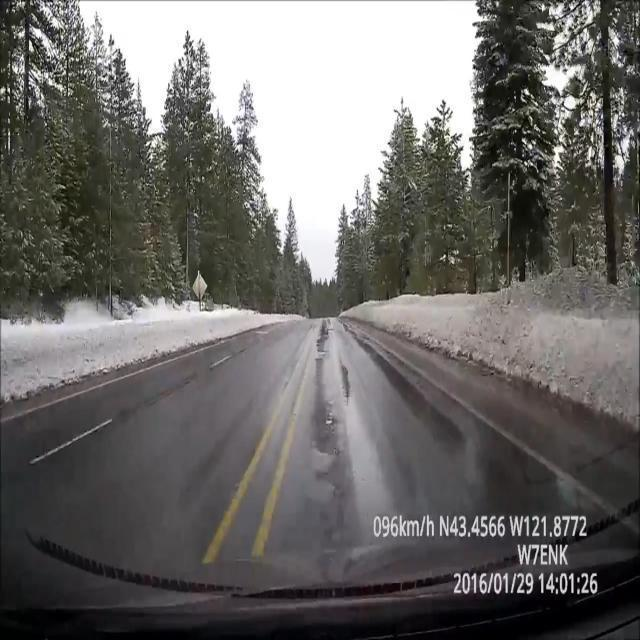pothole: (317, 399, 343, 431), (319, 316, 339, 341)
